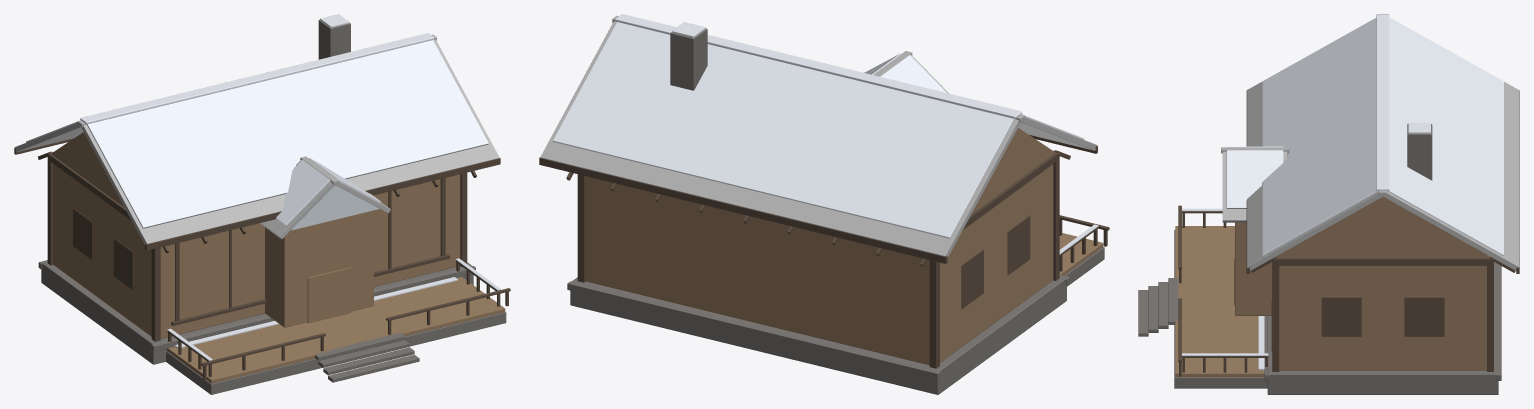
Rendered from Lodge.fbx.
The picture shows the model from 3 angles, left to right: view 1: azimuth 30°, elevation 25°; view 2: azimuth 150°, elevation 25°; view 3: azimuth 270°, elevation 25°; orthographic projection. The views are drawn at different scales.
Visible parts, largest first — view 1: Lodge; view 2: Lodge; view 3: Lodge.
Boxes of the visible parts, box(x1,y1,x2,y2) form: Lodge: box(14, 14, 510, 394); Lodge: box(539, 14, 1109, 394); Lodge: box(1138, 14, 1519, 394).
Bounding box in the file's own units: 25.4 × 15.63 × 22.91.
